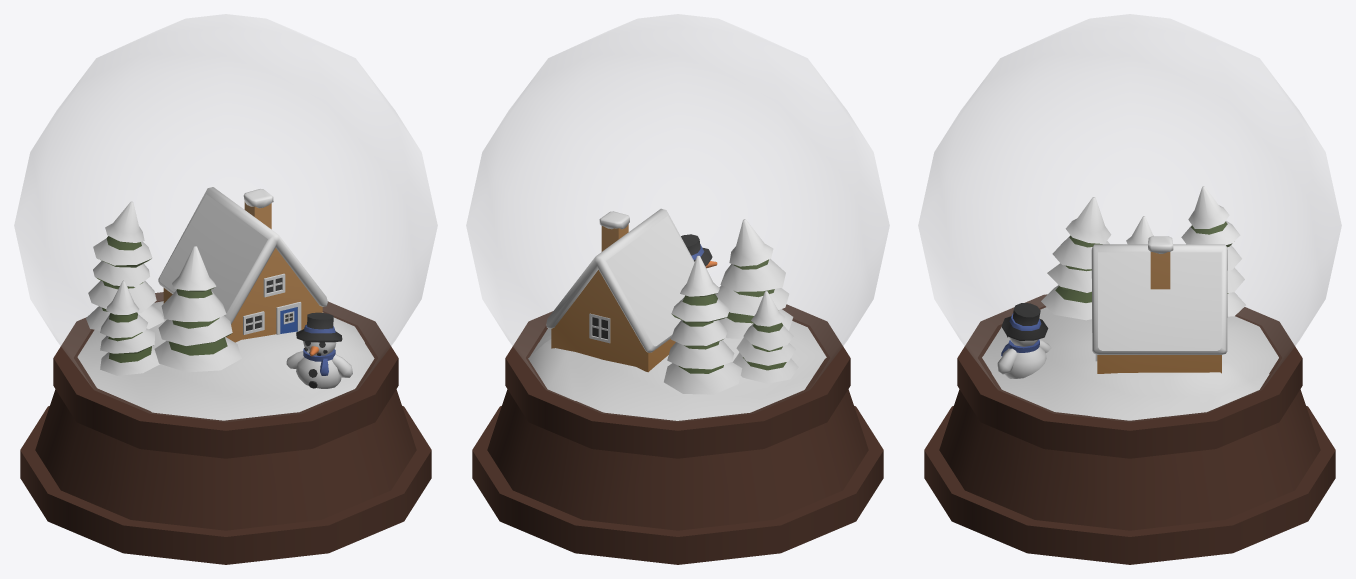
The model's file is SnowGlobe_01.fbx.
The picture shows the model from 3 angles, left to right: view 1: azimuth 30°, elevation 25°; view 2: azimuth 150°, elevation 25°; view 3: azimuth 270°, elevation 25°; orthographic projection.
Parts seen in each view (by area): view 1: SnowGlobe_01; view 2: SnowGlobe_01; view 3: SnowGlobe_01.
Boxes of the visible parts, x1,y1,x2,y2 form: SnowGlobe_01: (14, 14, 437, 564); SnowGlobe_01: (466, 14, 889, 564); SnowGlobe_01: (918, 14, 1341, 564).
Size of the model in its own units: 0.2026 by 0.2344 by 0.2026.
